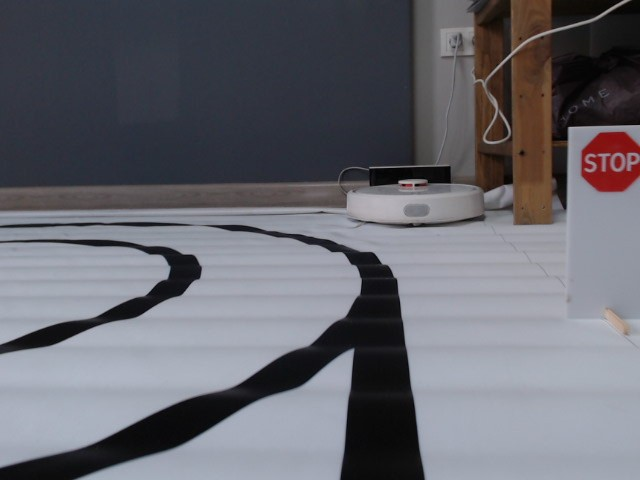Stop: (579, 129, 640, 195)
